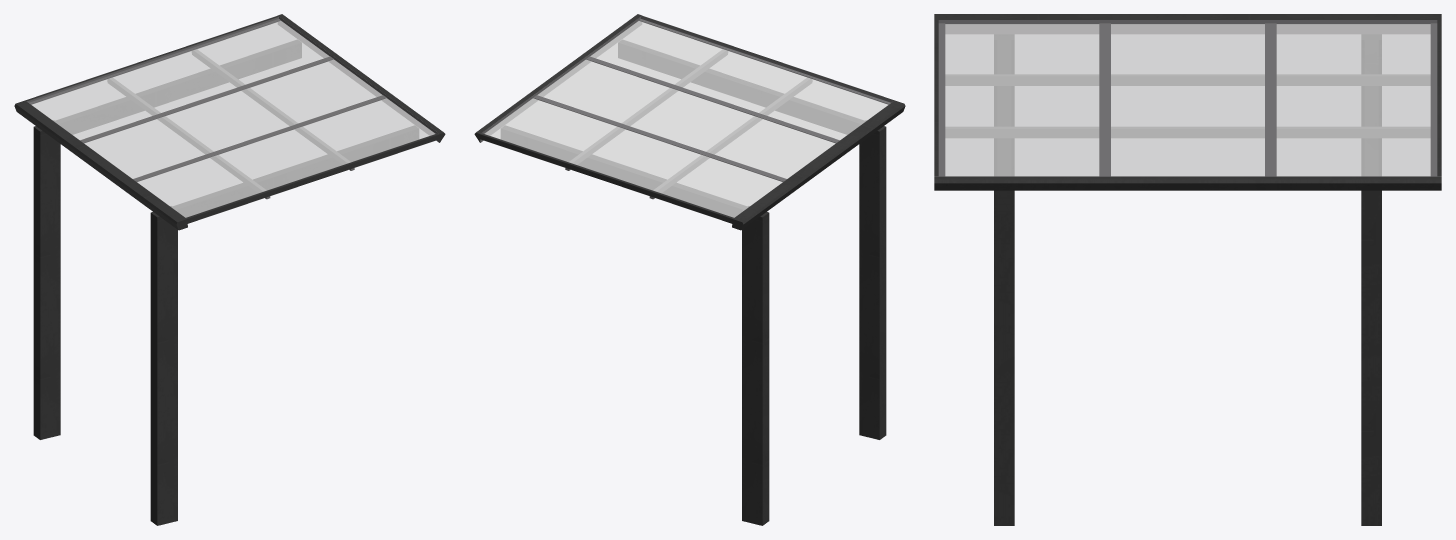
File: 2121-22_matblack.fbx
The picture shows the model from 3 angles, left to right: view 1: azimuth 30°, elevation 25°; view 2: azimuth 150°, elevation 25°; view 3: azimuth 270°, elevation 25°; orthographic projection. The views are drawn at different scales.
Parts seen in each view (by area): view 1: 2121-22matblack; view 2: 2121-22matblack; view 3: 2121-22matblack.
Part boxes in pixels (bbox=[...]): 2121-22matblack: bbox=[14, 14, 445, 525]; 2121-22matblack: bbox=[474, 14, 905, 525]; 2121-22matblack: bbox=[934, 14, 1441, 525].
Bounding box in the file's own units: 210 × 255 × 219.
Materials: 4 (2 with a texture image).
